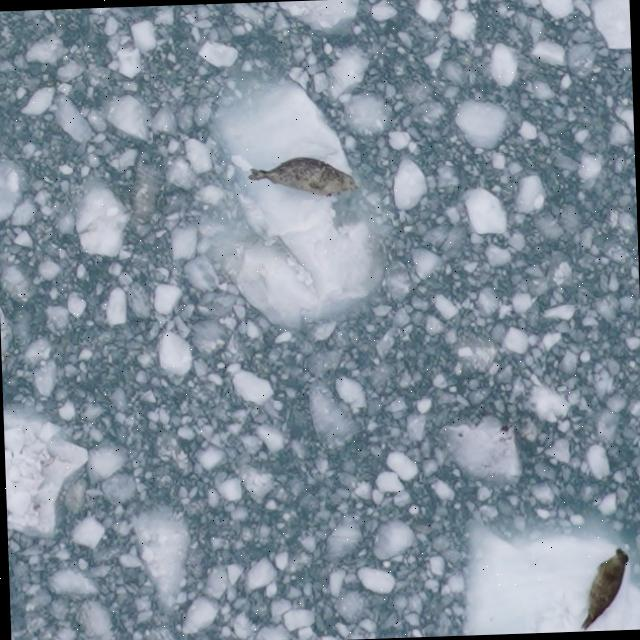seal: (241, 149, 361, 202), (575, 543, 632, 631)
